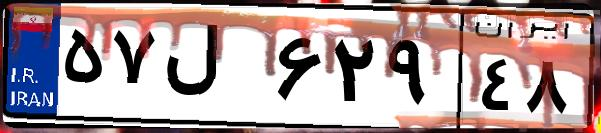2: (330, 28, 385, 110)
4: (475, 38, 525, 113)
5: (57, 26, 110, 100)
6: (270, 28, 330, 110)
7: (110, 28, 158, 98)
8: (525, 38, 570, 115)
9: (385, 28, 445, 110)
ل: (158, 20, 270, 120)
